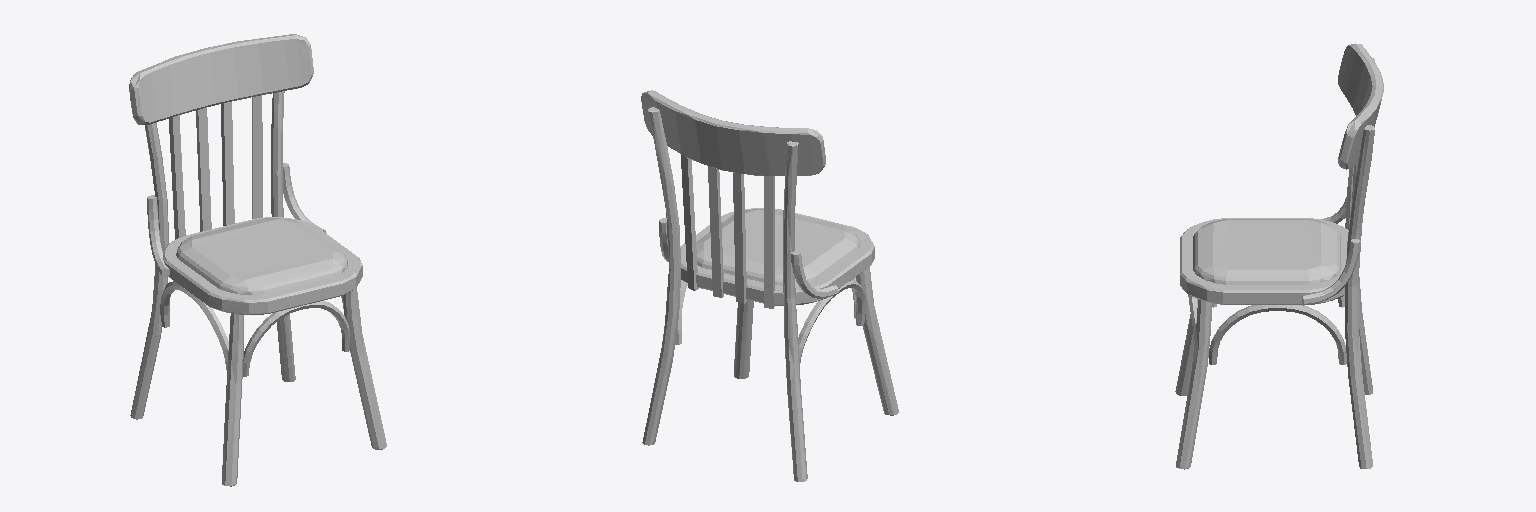
Rendered from wooden-chair.obj.
3 views of the same model, side by side, from view 1: azimuth 30°, elevation 25°; view 2: azimuth 150°, elevation 25°; view 3: azimuth 270°, elevation 25° (orthographic).
Visible parts, largest first — view 1: Chair_old_chair_0; view 2: Chair_old_chair_0; view 3: Chair_old_chair_0.
Boxes of the visible parts, box(x1,y1,x2,y2) form: Chair_old_chair_0: box(129, 34, 386, 486); Chair_old_chair_0: box(641, 90, 898, 481); Chair_old_chair_0: box(1175, 43, 1383, 469).
Size of the model in its own units: 0.5631 by 1.04 by 0.5641.